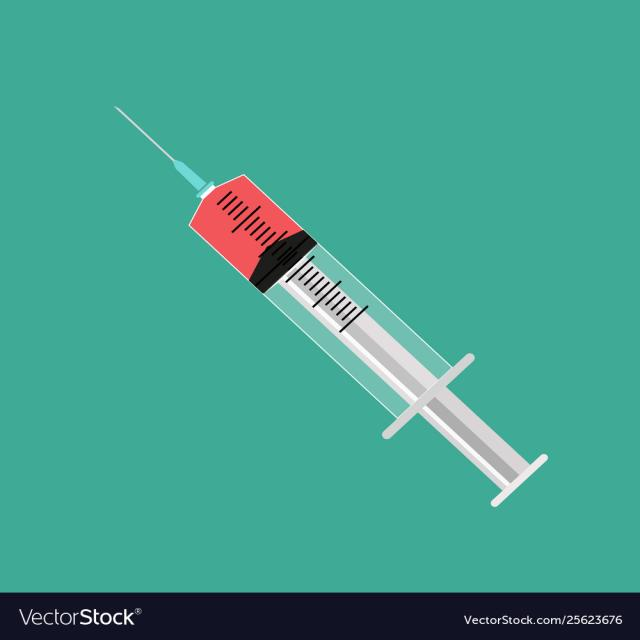syringe: (112, 104, 548, 507)
